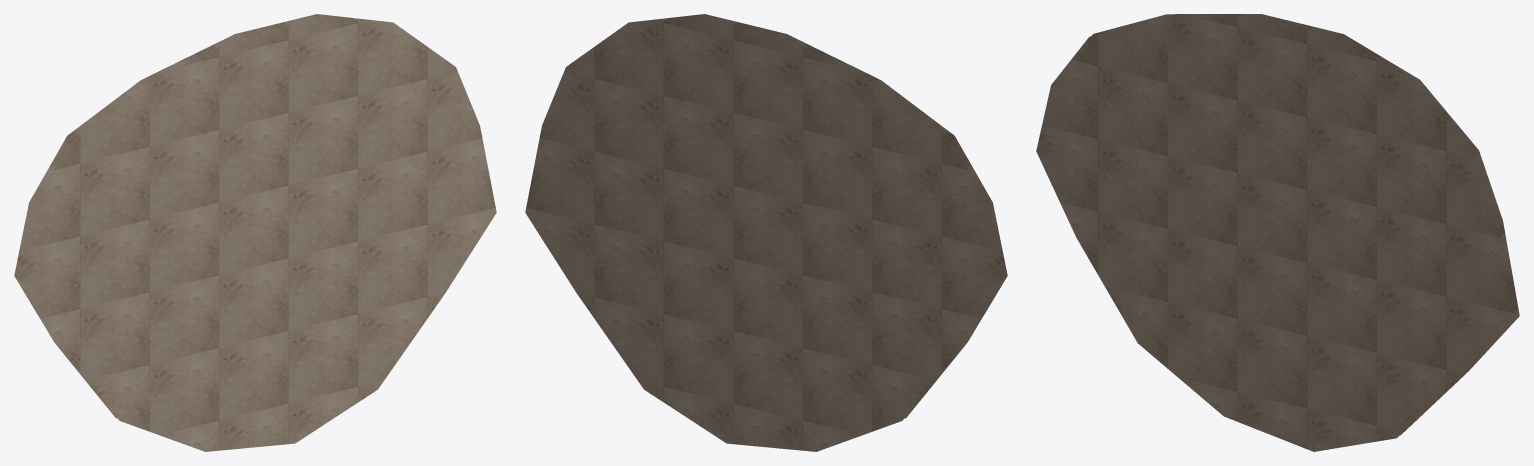
The model's file is floor_12.obj.
3 views of the same model, side by side, from view 1: azimuth 30°, elevation 25°; view 2: azimuth 150°, elevation 25°; view 3: azimuth 330°, elevation 25° (orthographic).
Visible parts, largest first — view 1: floor_12; view 2: floor_12; view 3: floor_12.
Boxes of the visible parts, x1,y1,x2,y2 form: floor_12: (14,14,496,451); floor_12: (525,14,1007,451); floor_12: (1036,14,1519,451).
Size of the model in its own units: 6.89 by 5.78 by 0.1.
Materials: 1 (1 with a texture image).
